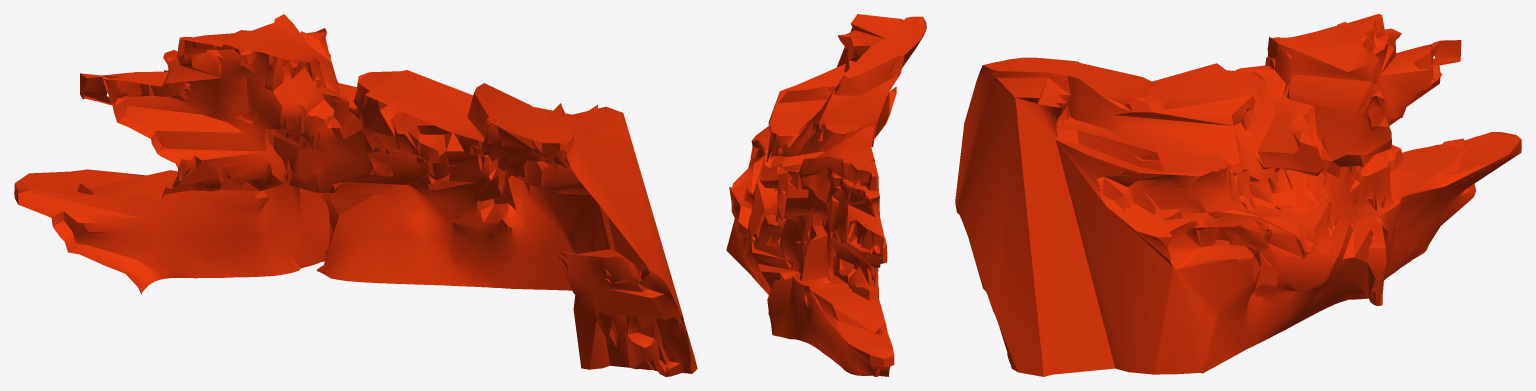
File: canyon_rock_wall_07.fbx
3 views of the same model, side by side, from view 1: azimuth 30°, elevation 25°; view 2: azimuth 150°, elevation 25°; view 3: azimuth 270°, elevation 25° (orthographic). The views are drawn at different scales.
Parts seen in each view (by area): view 1: Circle.016; view 2: Circle.016; view 3: Circle.016.
Boxes of the visible parts, box(x1,y1,x2,y2) form: Circle.016: box(14, 14, 697, 376); Circle.016: box(726, 14, 926, 376); Circle.016: box(955, 14, 1521, 376).
Bounding box in the file's own units: 3225 × 2111 × 4331.
